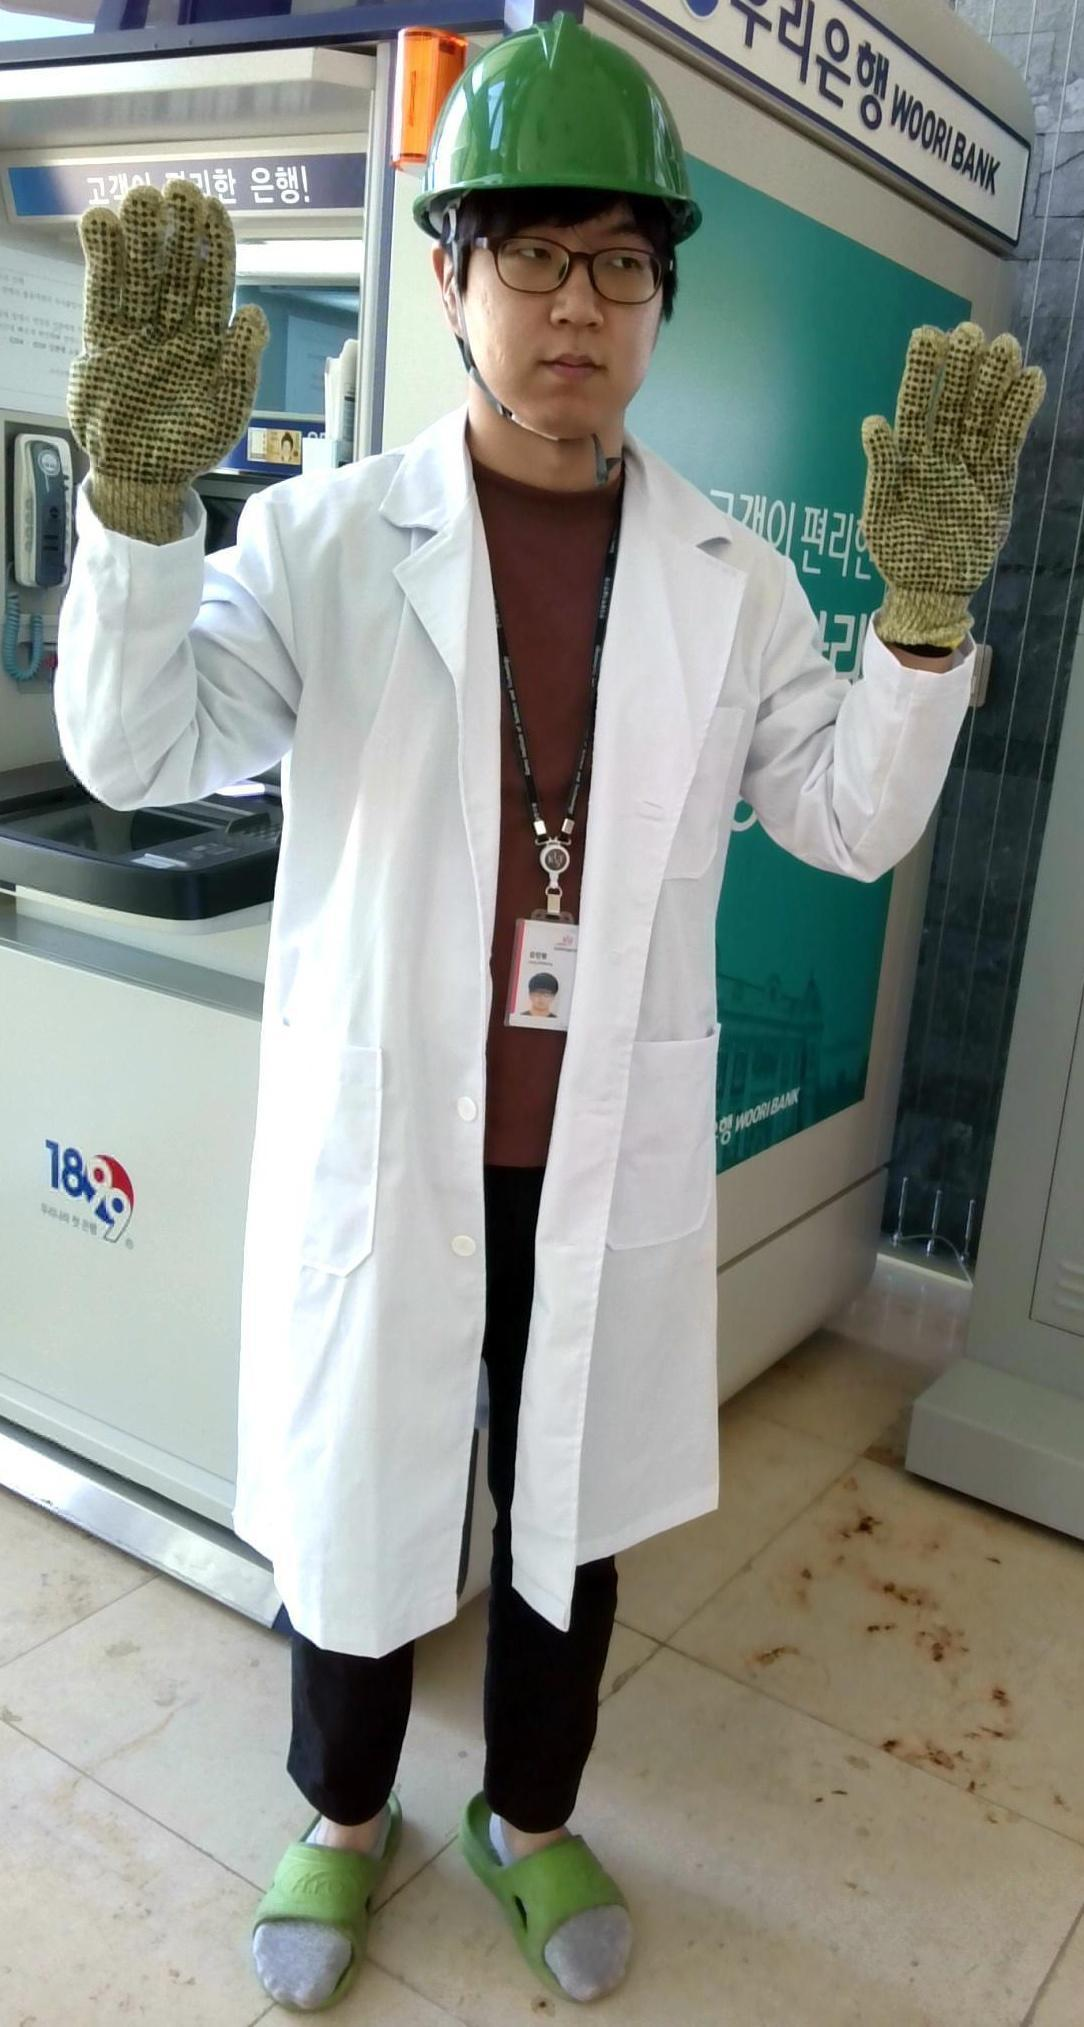lab_coat: (234, 546, 787, 1583)
